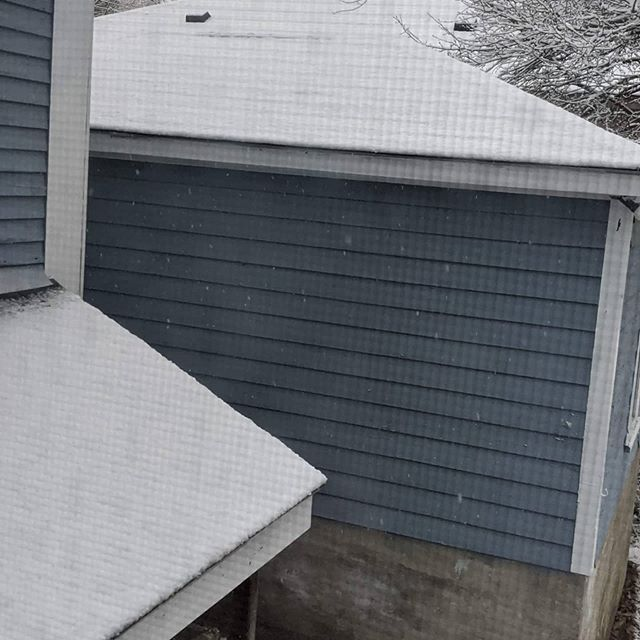building: (90, 1, 640, 568), (1, 1, 314, 630)
